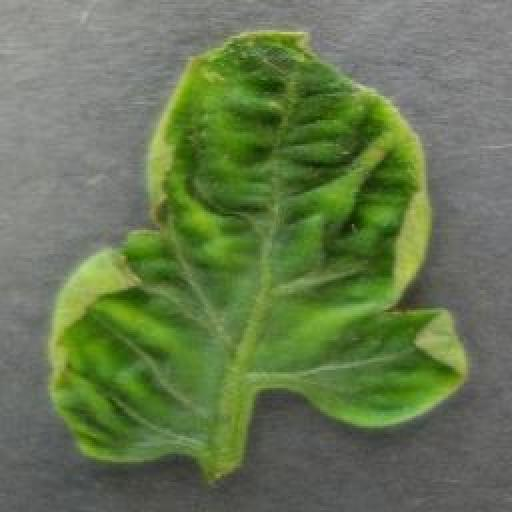disease_tomato: (47, 28, 470, 463)
